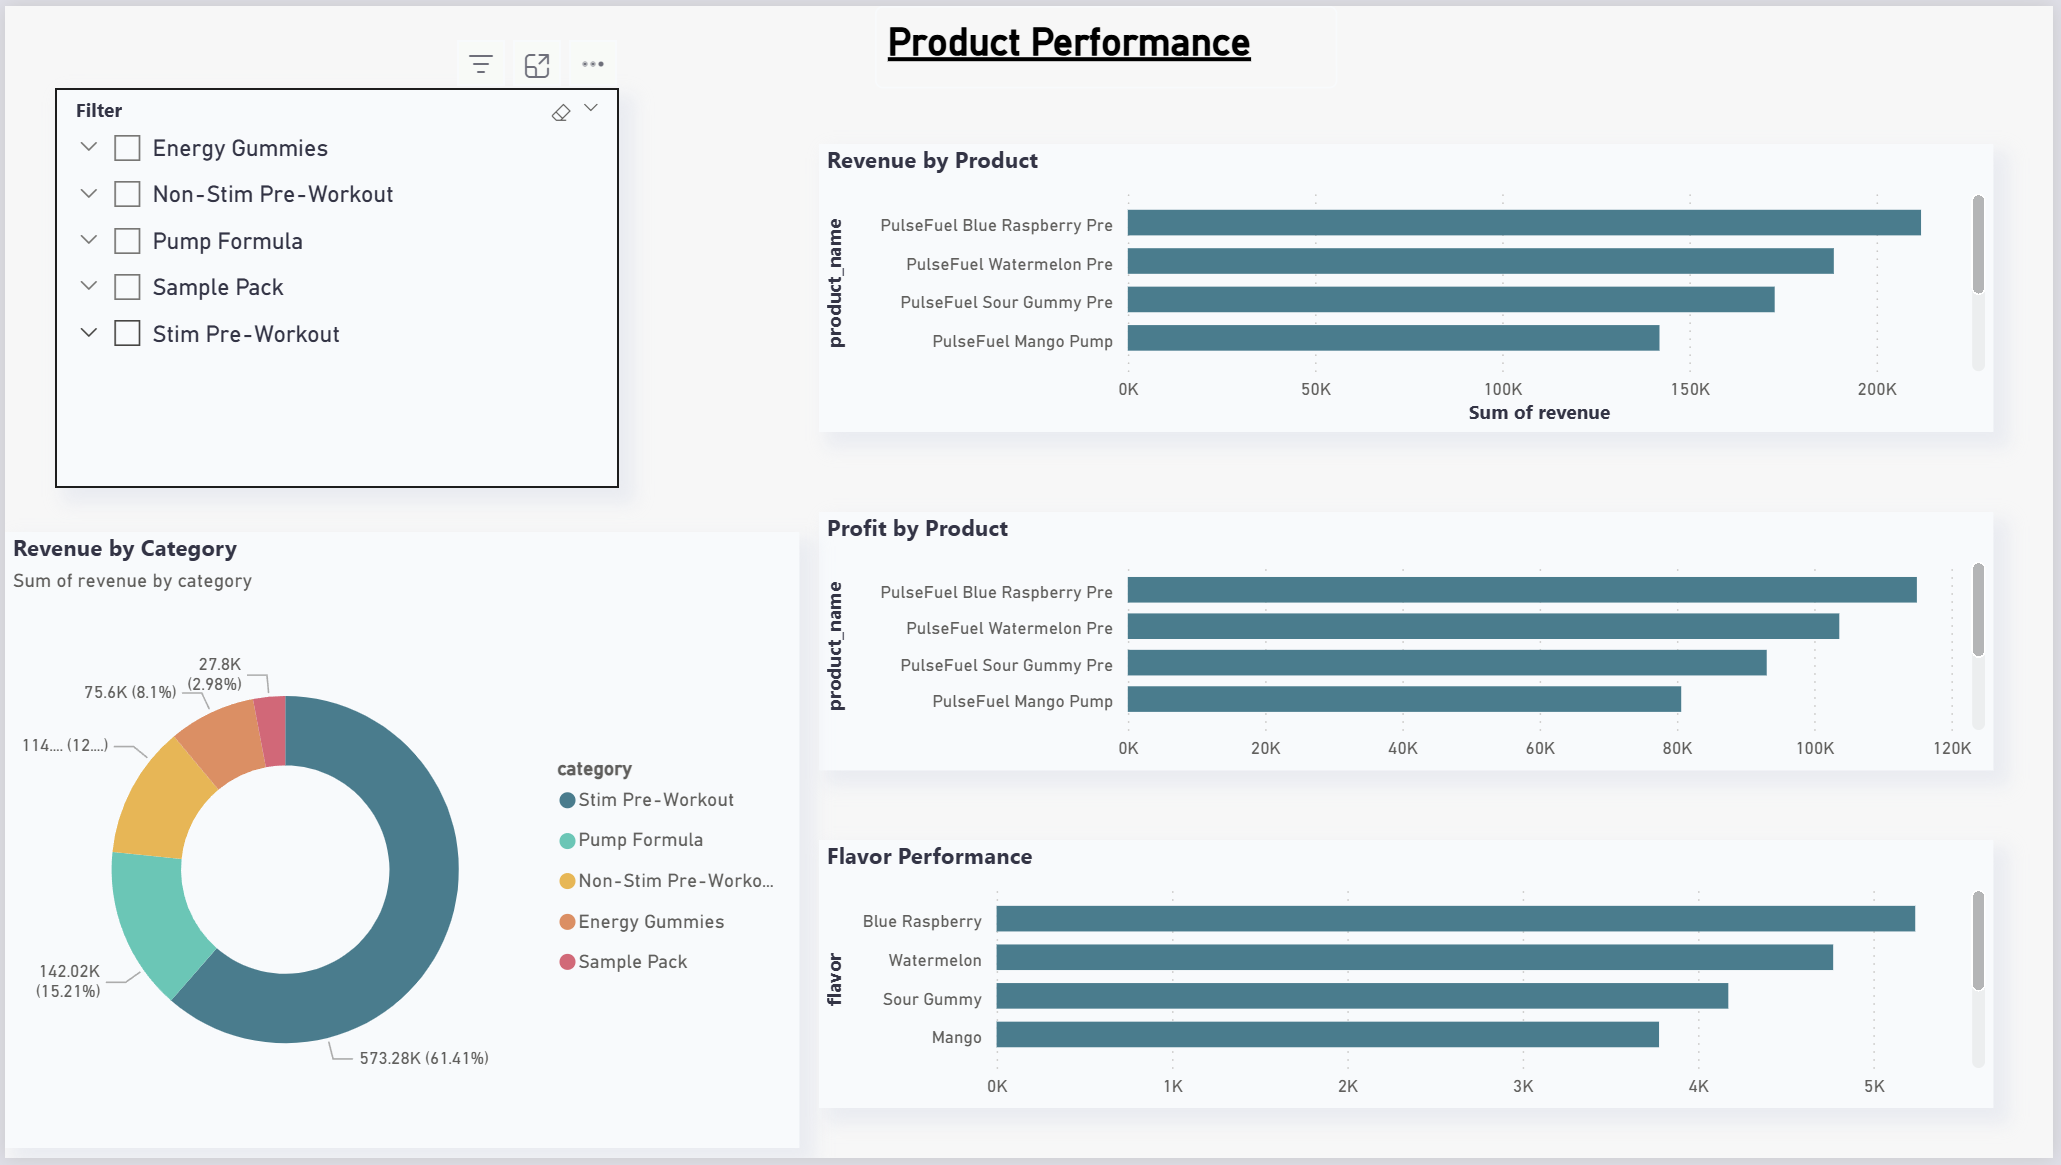

This screenshot's page, from the dashboard's own definition file:
{"tool":"powerbi","page":{"name":"Product Performance","canvas":[1280,720],"ordinal":1},"visuals":[{"type":"clusteredBarChart","title":"Revenue by Product","fields":{"Category":["cleaned_sales_data.product_name"],"Y":["Sum(cleaned_sales_data.revenue)"]},"box":[508.8,86.2,733.8,180],"z":0},{"type":"clusteredBarChart","title":"Profit by Product","fields":{"Category":["cleaned_sales_data.product_name"],"Y":["Sum(cleaned_sales_data.profit)"]},"box":[508.8,316.2,733.8,161.2],"z":1000},{"type":"donutChart","title":"Revenue by Category","fields":{"Category":["cleaned_sales_data.category"],"Y":["Sum(cleaned_sales_data.revenue)"]},"box":[0,328.8,496.2,385],"z":2000},{"type":"clusteredBarChart","title":"Flavor Performance","fields":{"Category":["cleaned_sales_data.flavor"],"Y":["Sum(cleaned_sales_data.units_sold)"]},"box":[508.8,521.2,733.8,167.5],"z":3000},{"type":"slicer","fields":{"Values":["cleaned_sales_data.category","cleaned_sales_data.flavor","cleaned_sales_data.channel"]},"box":[31.2,51.2,352.5,250],"z":4000},{"type":"textbox","box":[543.8,0,288.8,51.2],"z":5000}]}

Visuals, with their boxes on the page's 1280x720 design canvas (x1, y1, x2, y2). These are canvas units, not pixel positions in the 2061x1165 screenshot, which may show the page scaled, cropped or inside an application window:
"Revenue by Product" clusteredBarChart: (509, 86, 1243, 266)
"Profit by Product" clusteredBarChart: (509, 316, 1243, 477)
"Revenue by Category" donutChart: (0, 329, 496, 714)
"Flavor Performance" clusteredBarChart: (509, 521, 1243, 689)
slicer - cleaned_sales_data.category x cleaned_sales_data.flavor: (31, 51, 384, 301)
textbox: (544, 0, 833, 51)
